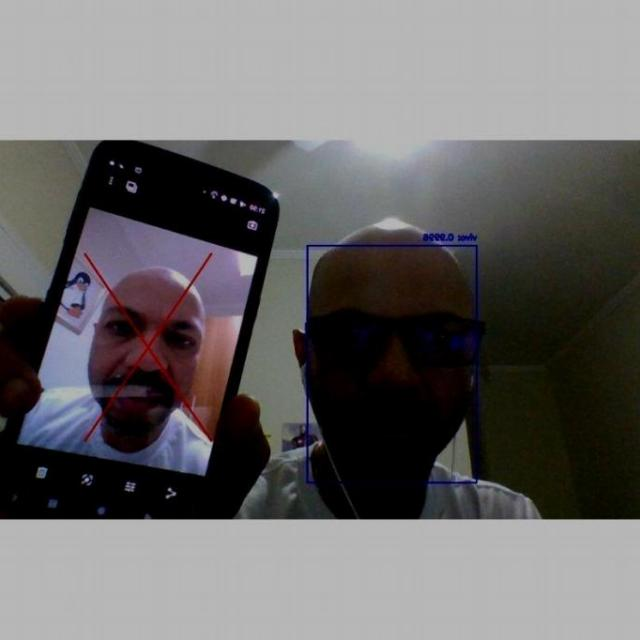device: (0, 150, 277, 512)
live: (317, 256, 471, 467)
